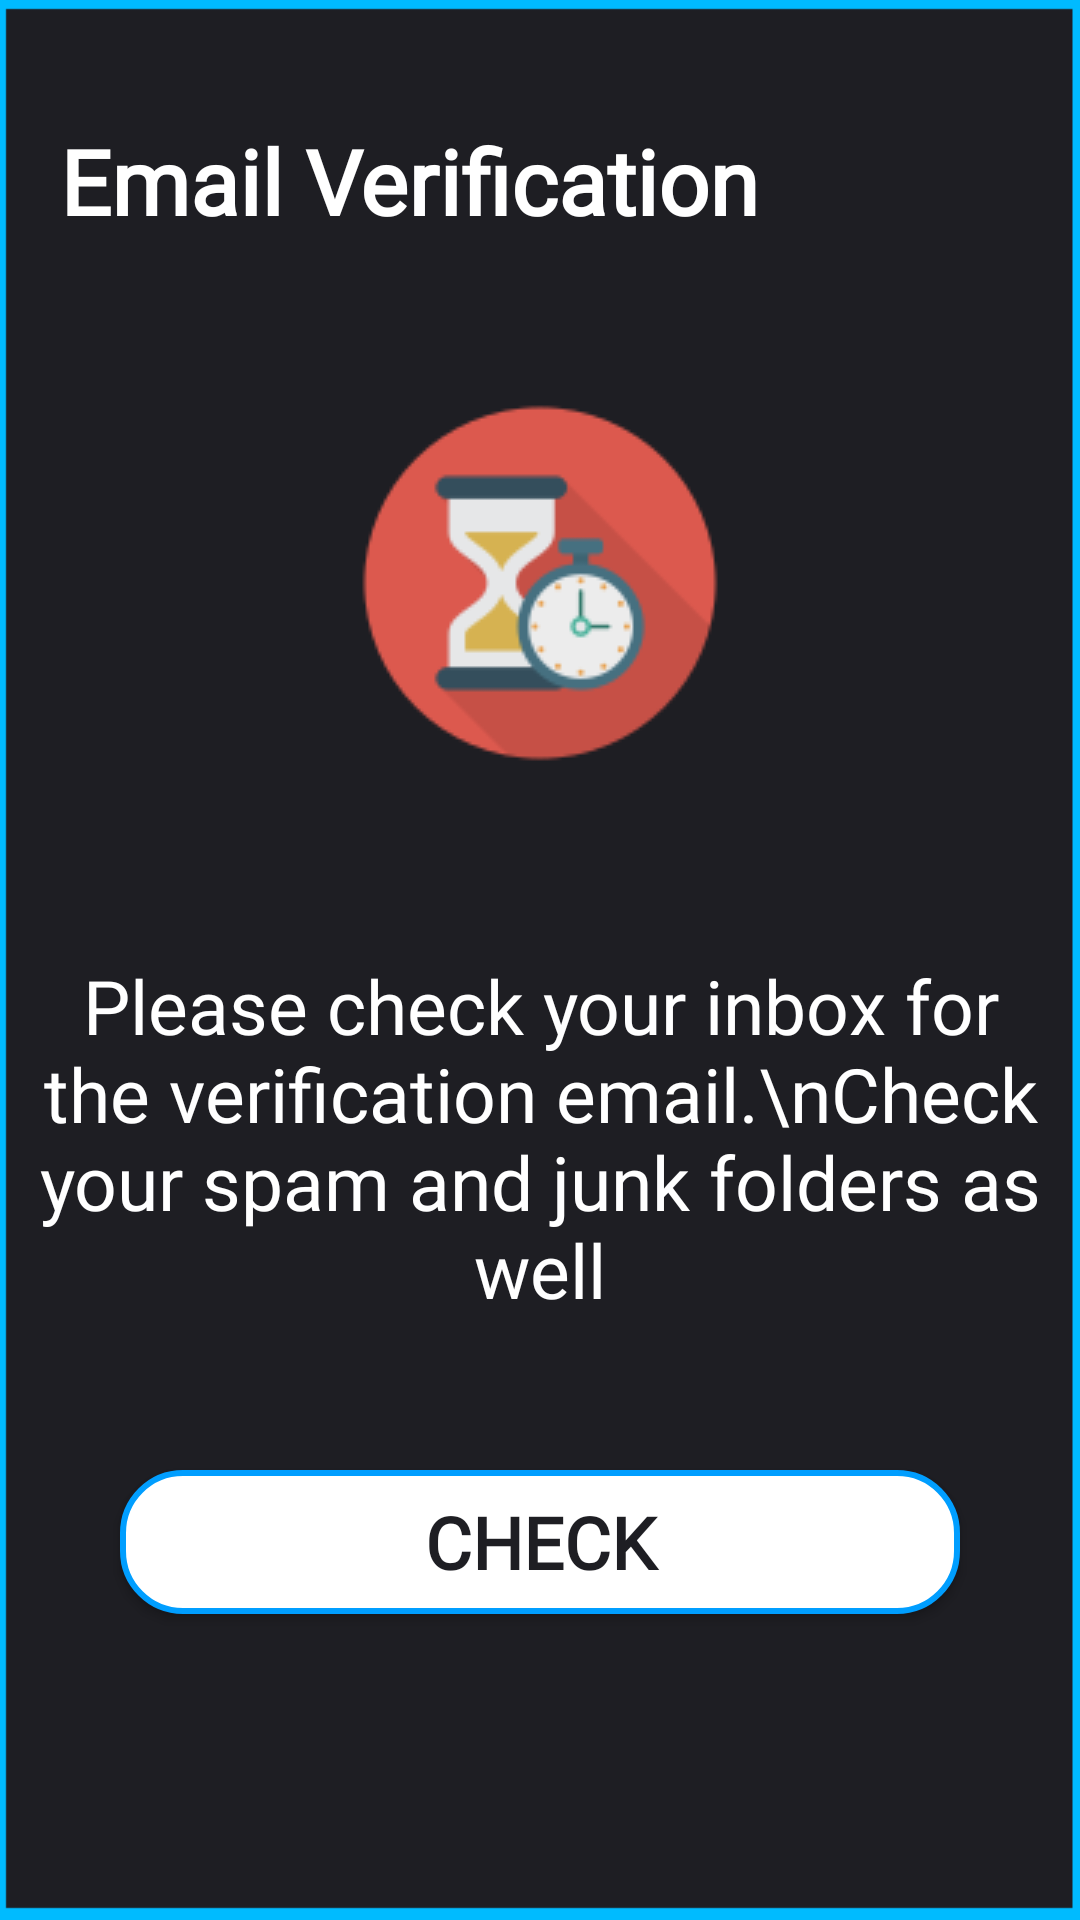

Icons on this 1080*1920 Android screen, each with the point to tap as (x=x, y=y):
wait: (x=540, y=583)
